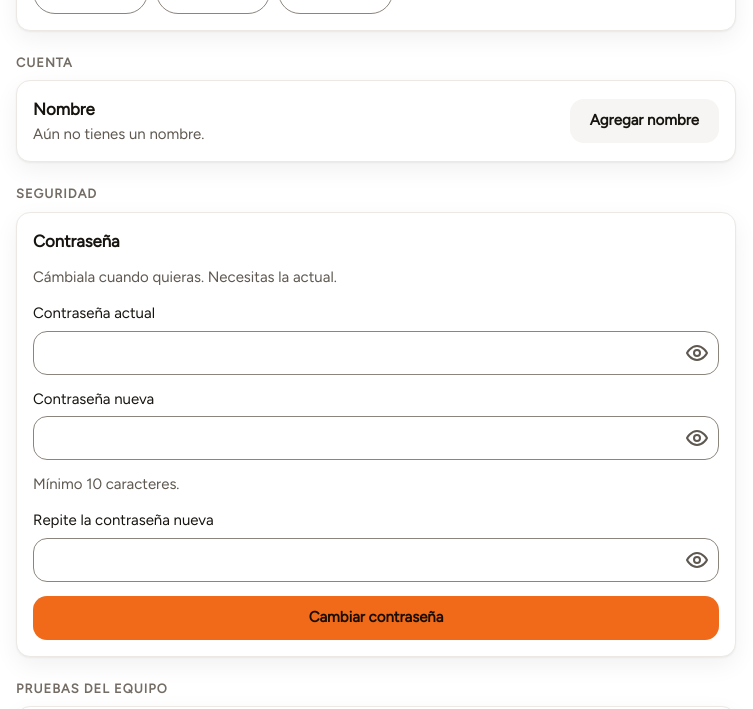
ajustes › seguridad › contraseña › con contraseña ofrece cambiarla, pidiendo la actual
(page scrolled)
Expected: the heading "Seguridad" is shown, [16,186,97,201]
Expected: the heading "Contraseña" is shown, [33,231,120,251]
In the password field labelled "Contraseña actual": {"x": 376, "y": 353} [33,331,719,375], type "la vieja"
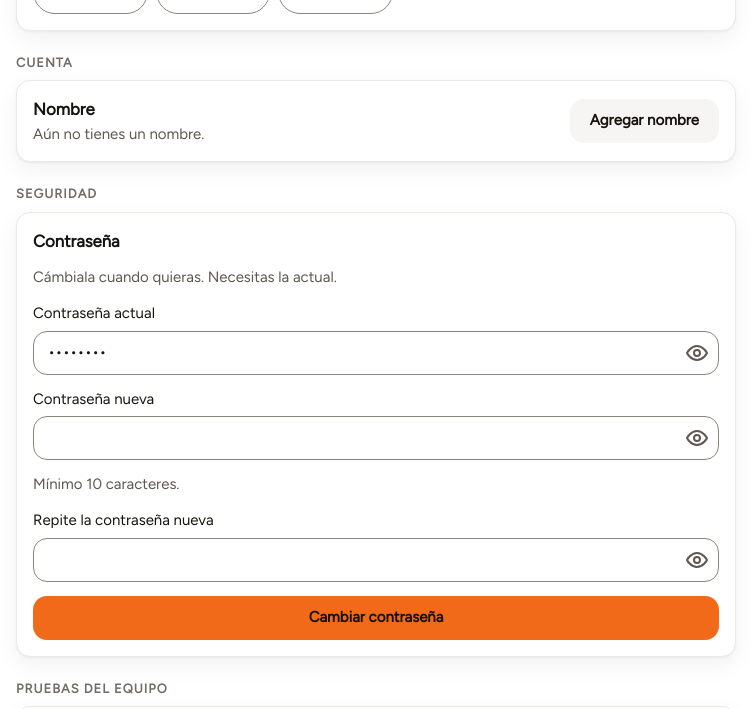
In the password field labelled "Contraseña nueva": {"x": 376, "y": 438} [33,416,719,460], type "una clave bien larga"
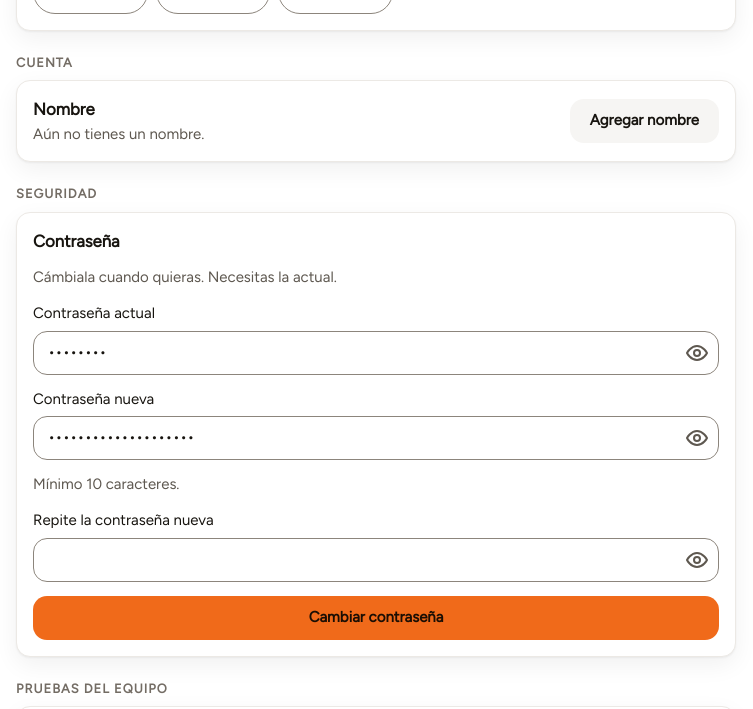
In the password field labelled "Repite la contraseña nueva": {"x": 376, "y": 560} [33,538,719,582], type "una clave bien larga"
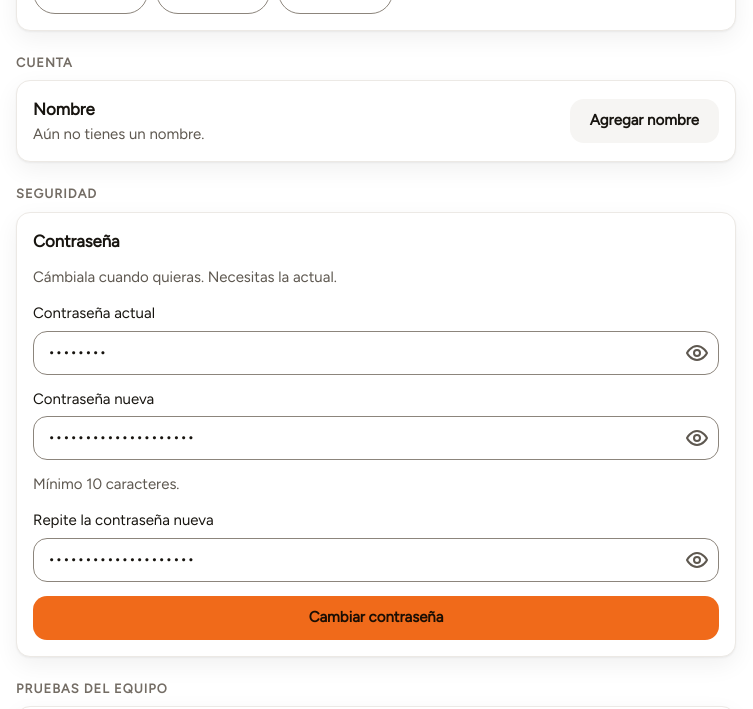
Click the button "Cambiar contraseña": {"x": 376, "y": 618} [33,596,719,640]
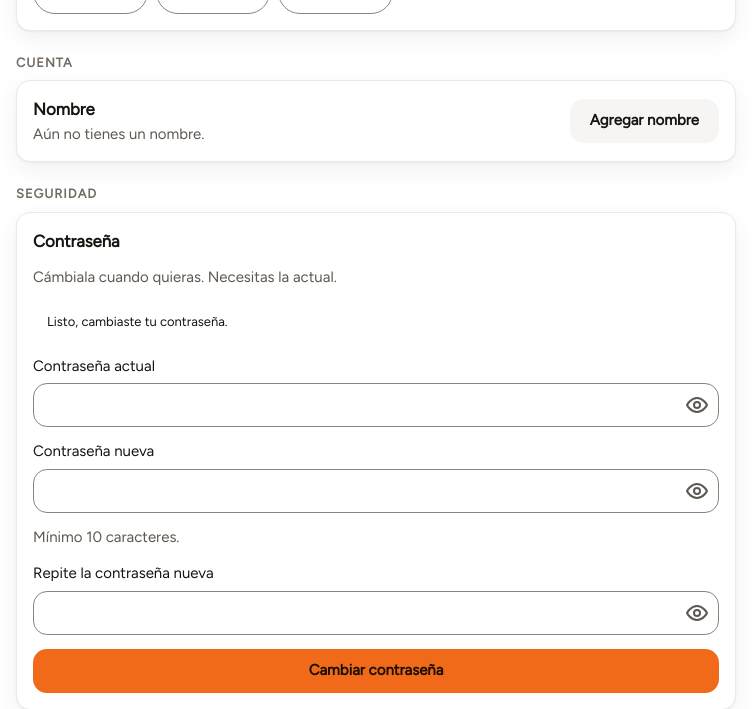
Expected: the message shows "cambiaste tu contraseña", [47,314,228,329]
Expected: the password field labelled "Contraseña actual" is empty, [33,383,719,427]
